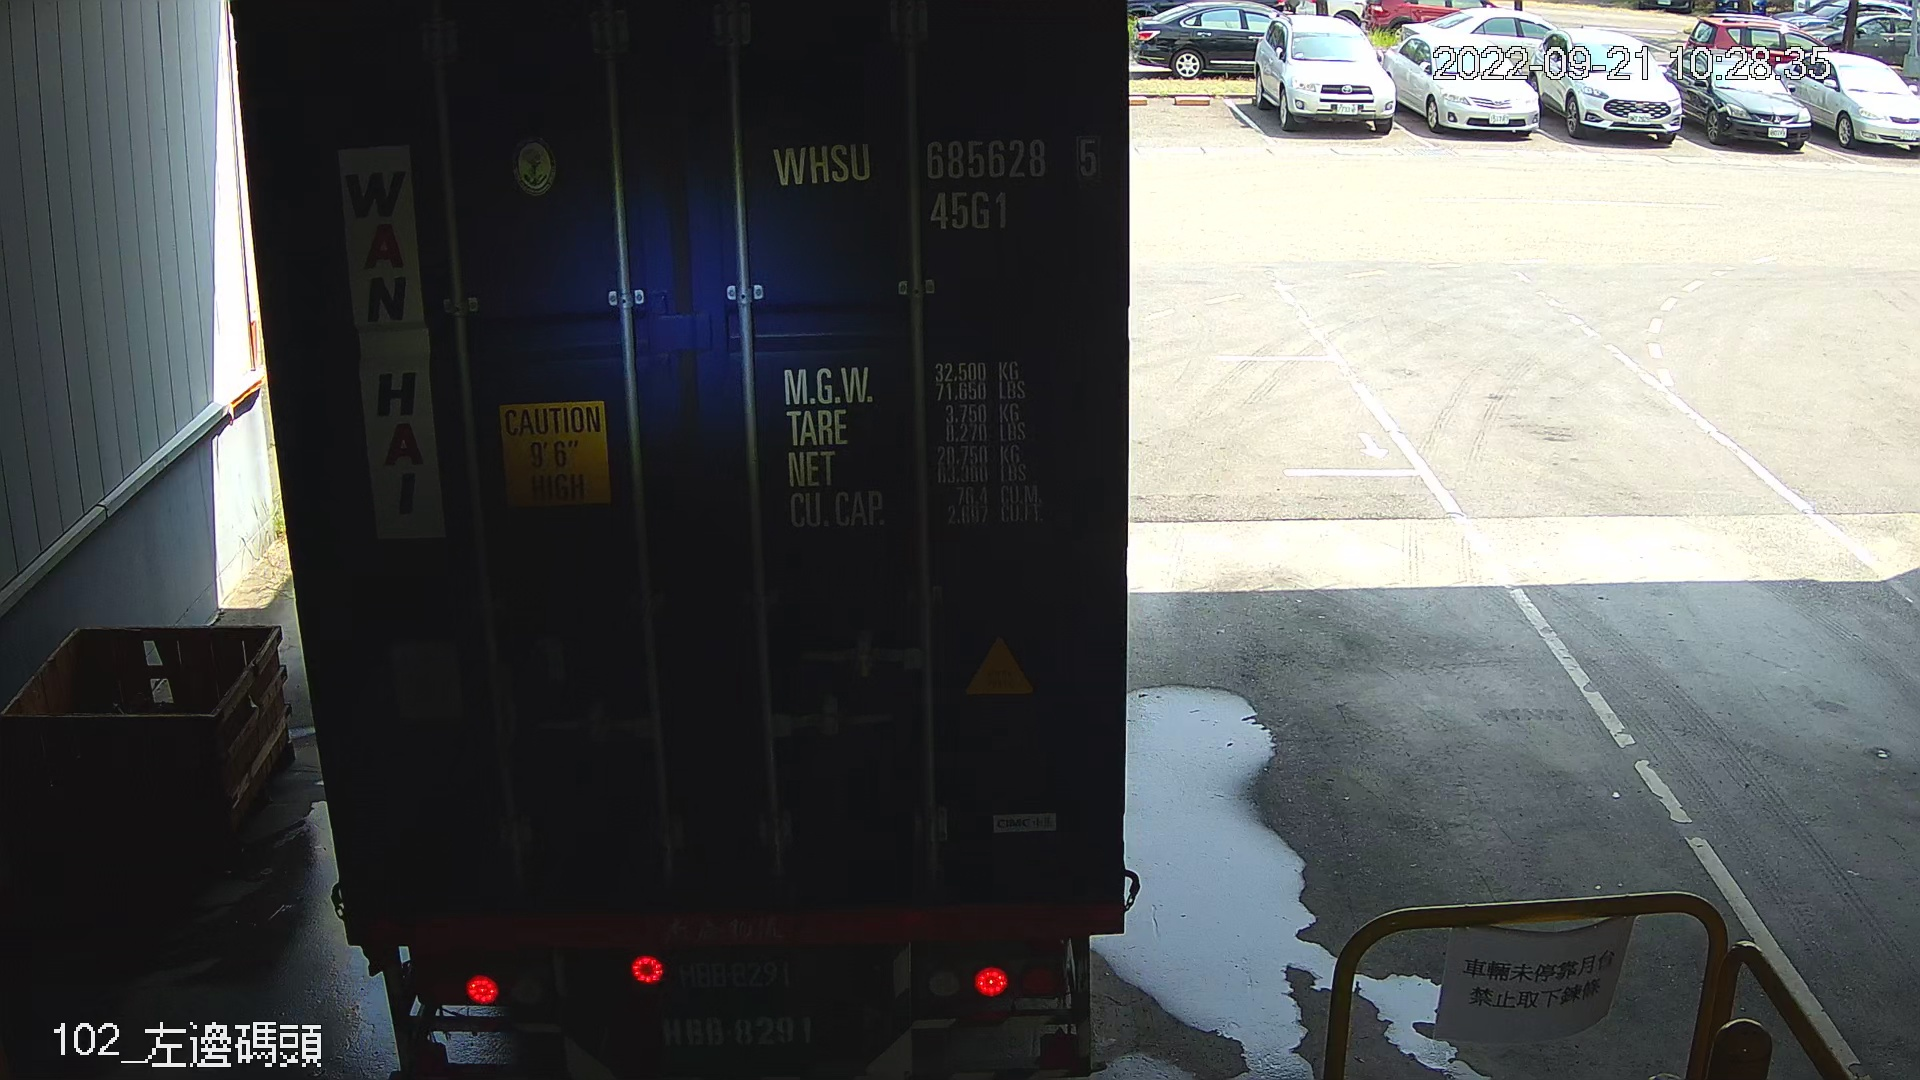container: (757, 123, 1112, 244)
